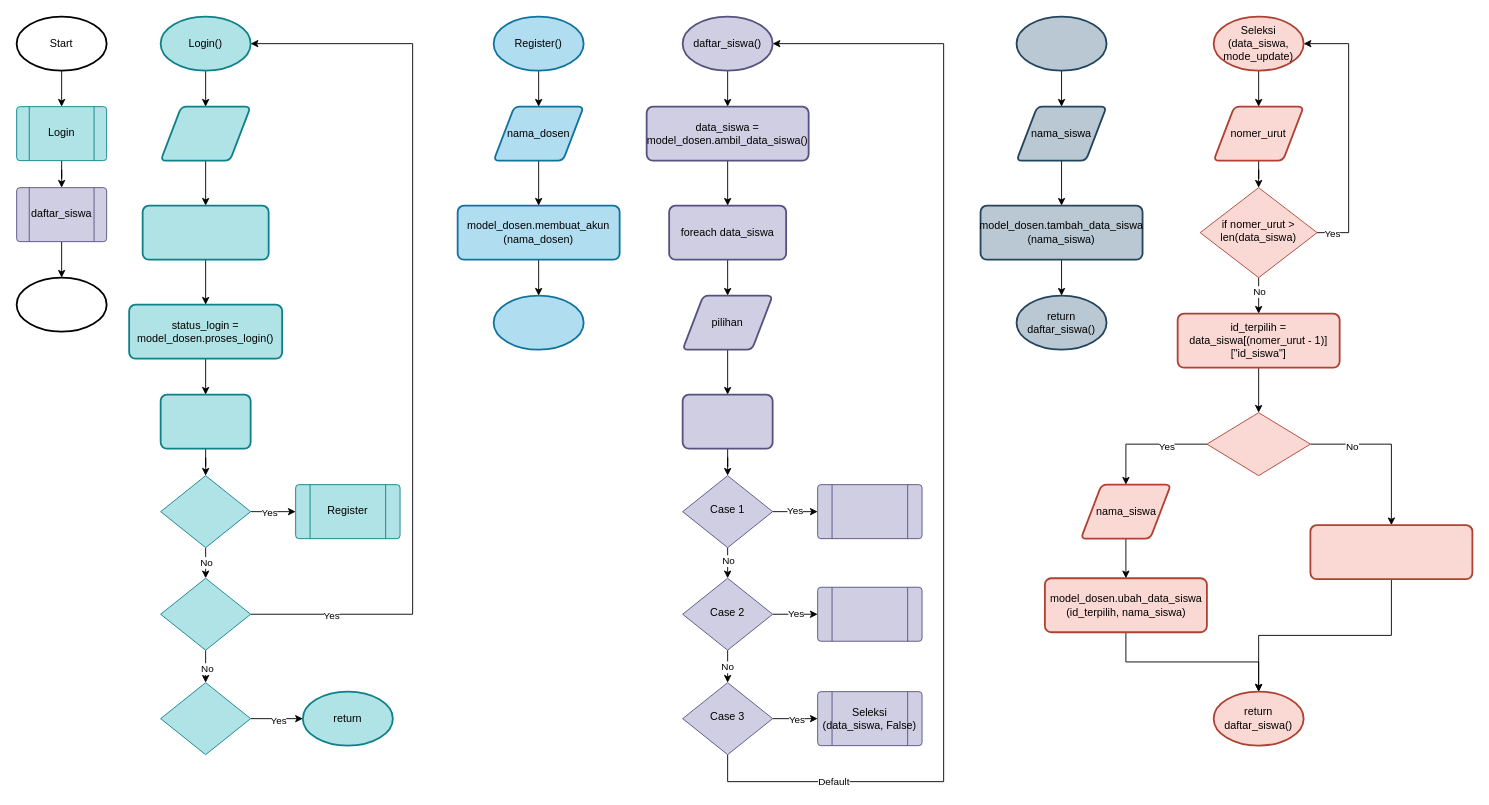
Some shapes in this 1489 by 805 pixel diagram are drawn without their labels. The centre of each missing label's shape, as x and y in pixels:
"Case False" goes at (205,613).
"Case None" goes at (205,511).
"Case True" goes at (205,718).
"email & password" goes at (205,133).
"End" goes at (61,304).
"if mode_update is True" goes at (1258,444).
"model_dosen.hapus_data_siswa (id_terpilih)" goes at (1391,552).
"return Login()" goes at (538,322).
"Seleksi (data_siswa, True)" goes at (869,613).
"self.model_dosen = Dosen(email, password)" goes at (205,232).
"Switch pilihan" goes at (727,421).
"Switch status_login" goes at (205,421).
"Tambah" goes at (869,511).
"Tambah()" goes at (1061,43).
